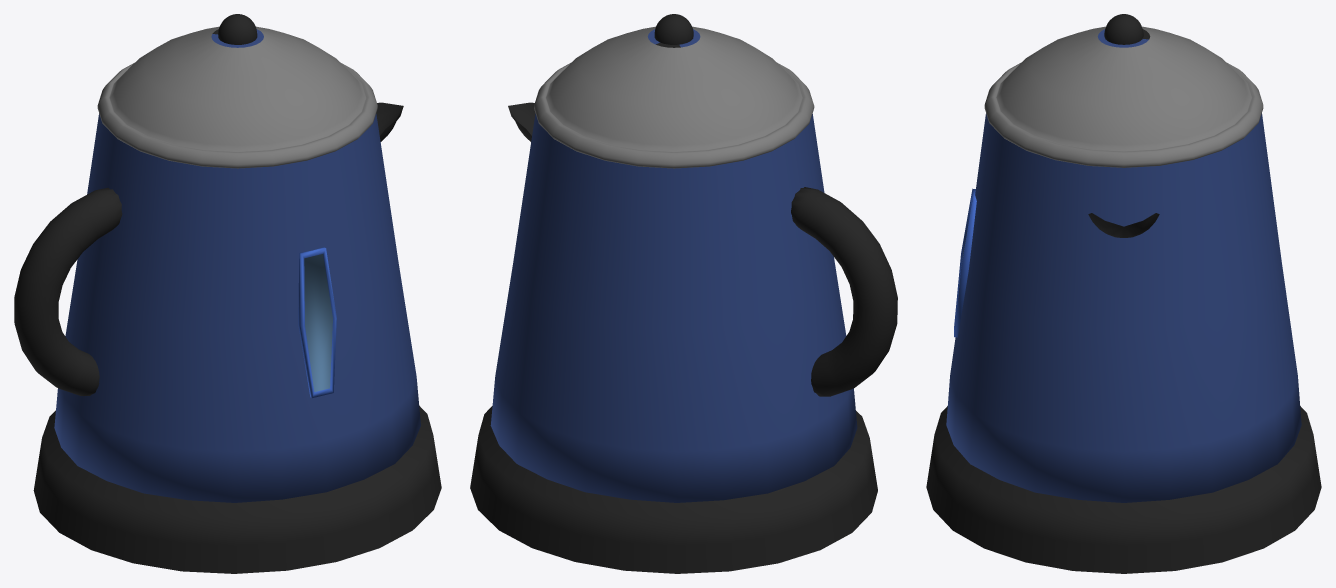
File: KettleNew.fbx
3 views of the same model, side by side, from view 1: azimuth 30°, elevation 25°; view 2: azimuth 150°, elevation 25°; view 3: azimuth 270°, elevation 25° (orthographic).
Visible parts, largest first — view 1: Cylinder; view 2: Cylinder; view 3: Cylinder.
Boxes of the visible parts, left/top/right/bottom form: Cylinder: left=14, top=14, right=441, bottom=573; Cylinder: left=470, top=14, right=897, bottom=573; Cylinder: left=926, top=14, right=1321, bottom=573.
Size of the model in its own units: 226 by 256 by 195.
